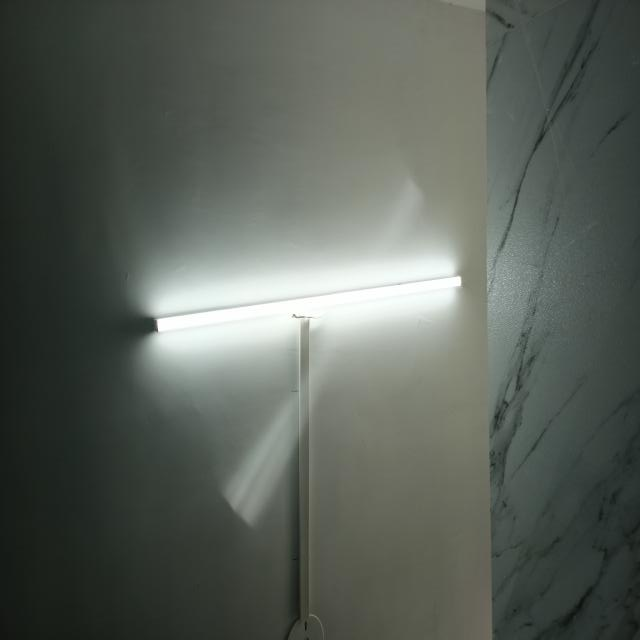fluorescent tube: (144, 264, 472, 340)
